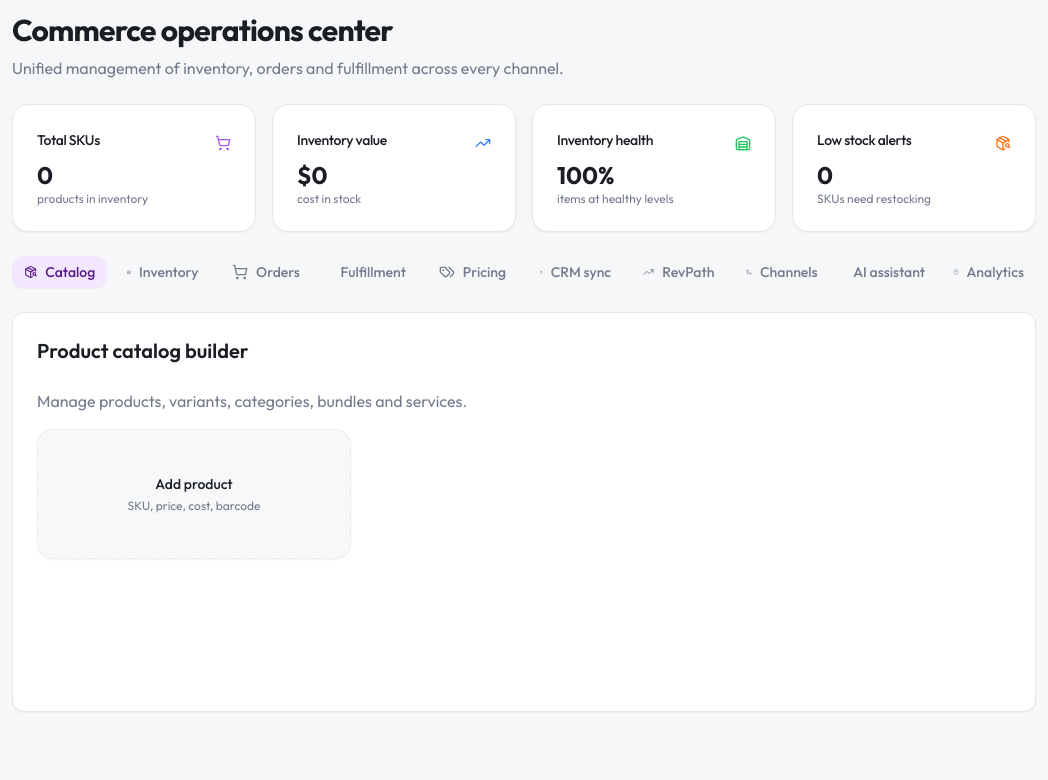
InventoryOrders in English › explains an empty inventory
Press the mouse on the tab "Inventory": (163, 272) [115, 256, 210, 288]
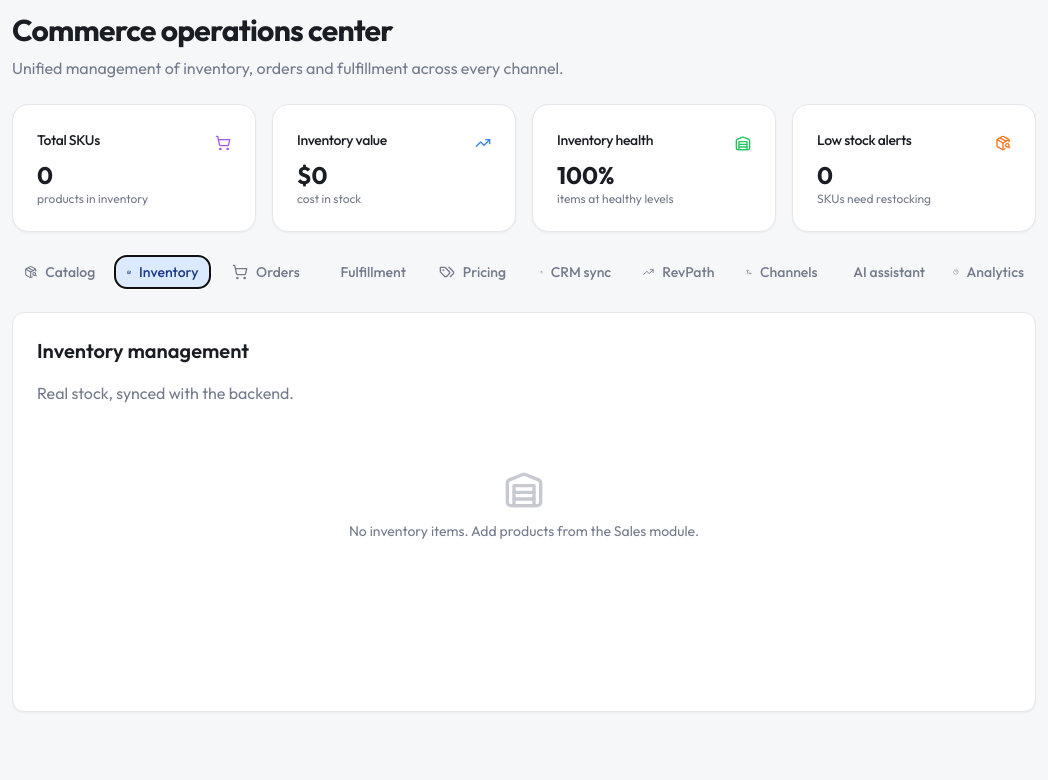
Now the text "No inventory items. Add products from the Sales module." is shown, box [349, 522, 699, 540]
